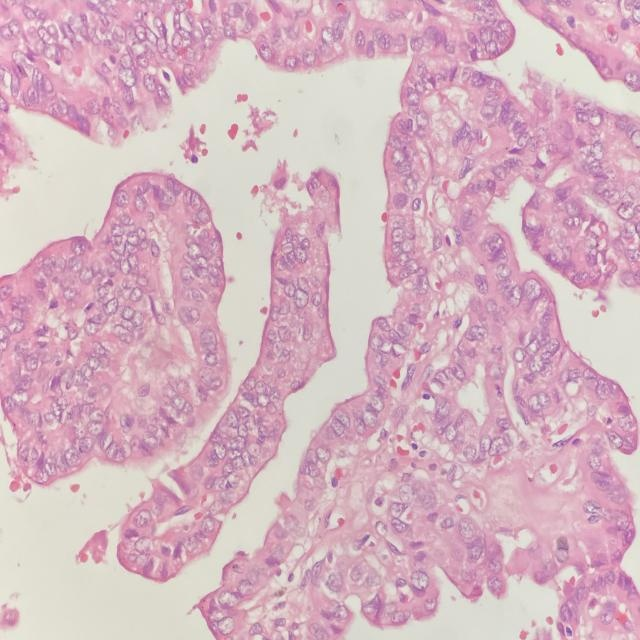TC: (486, 430, 512, 463), (196, 327, 222, 355), (127, 427, 147, 461), (388, 147, 409, 178), (193, 365, 219, 390), (505, 283, 523, 317), (291, 284, 310, 316), (473, 268, 492, 300), (434, 395, 454, 424), (510, 343, 530, 372), (412, 107, 433, 133), (369, 331, 388, 358), (97, 430, 115, 458), (251, 376, 270, 402), (387, 225, 409, 247), (487, 161, 509, 183), (313, 443, 333, 467), (292, 245, 310, 271), (397, 263, 418, 285), (178, 264, 199, 286), (277, 321, 296, 345), (361, 408, 379, 432), (409, 187, 425, 214), (136, 379, 154, 403), (428, 228, 444, 254), (415, 338, 431, 361), (463, 441, 477, 464)
